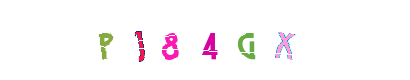4: (165, 0, 245, 80)
8: (143, 0, 223, 80)
G: (204, 0, 284, 80)
J: (140, 0, 220, 80)
P: (100, 0, 180, 80)
X: (244, 0, 324, 80)
